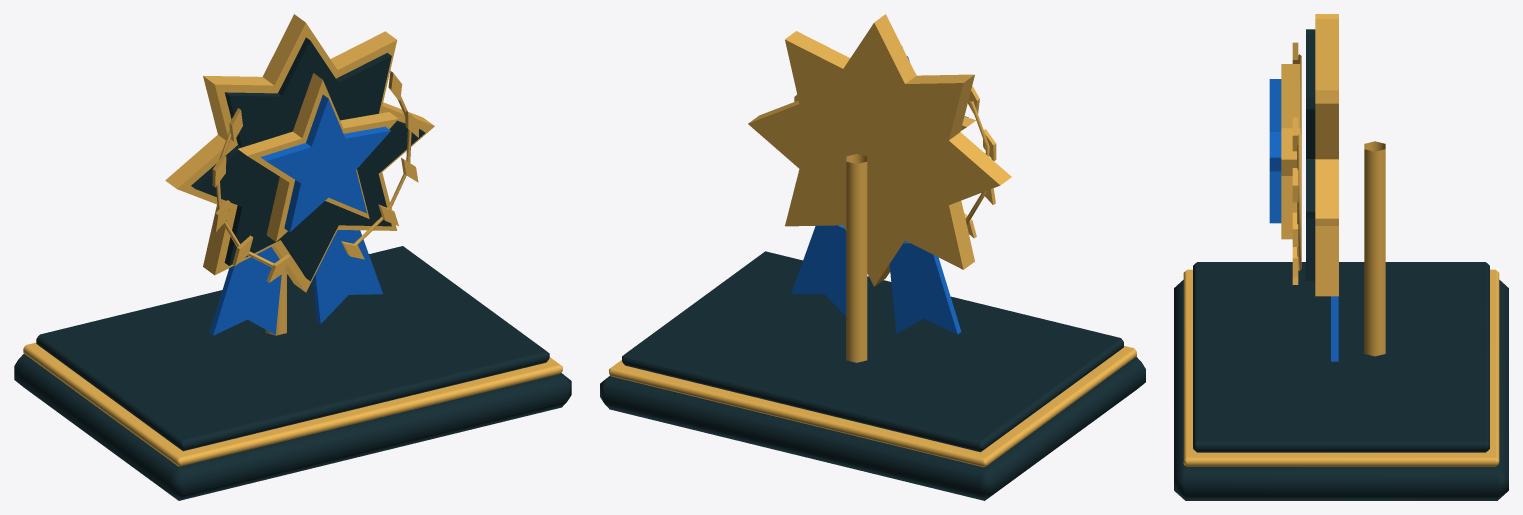
File: chess.insignia.star.lod1.glb
The picture shows the model from 3 angles, left to right: view 1: azimuth 30°, elevation 25°; view 2: azimuth 150°, elevation 25°; view 3: azimuth 270°, elevation 25°; orthographic projection. The views are drawn at different scales.
Parts seen in each view (by area): view 1: stand_top, stand_base, distance_recess, distance_cast_rim, stand_gold_band, distance_symbol_enamel, distance_symbol_setting, distance_ribbon, distance_ribbon.001; view 2: stand_top, distance_cast_rim, stand_base, stand_gold_band, medallion_support, distance_ribbon, distance_ribbon.001; view 3: stand_top, stand_base, stand_gold_band, distance_cast_rim, medallion_support, distance_symbol_setting, distance_recess, distance_symbol_enamel, distance_stem.001, distance_ribbon.001.
Part boxes in pixels (x1,y1,x2,y2): stand_top: [36, 246, 549, 451]; stand_base: [14, 354, 571, 500]; distance_recess: [191, 37, 424, 281]; distance_cast_rim: [165, 14, 434, 292]; stand_gold_band: [23, 342, 562, 466]; distance_symbol_enamel: [260, 94, 390, 231]; distance_symbol_setting: [238, 73, 398, 241]; distance_ribbon: [209, 247, 281, 335]; distance_ribbon.001: [312, 230, 382, 323]; stand_top: [622, 251, 1123, 452]; distance_cast_rim: [748, 14, 1011, 286]; stand_base: [600, 356, 1145, 500]; stand_gold_band: [609, 346, 1136, 467]; medallion_support: [846, 154, 867, 362]; distance_ribbon: [889, 241, 961, 334]; distance_ribbon.001: [791, 225, 846, 316]; stand_top: [1193, 262, 1489, 452]; stand_base: [1174, 280, 1508, 500]; stand_gold_band: [1183, 269, 1499, 466]; distance_cast_rim: [1315, 14, 1338, 296]; medallion_support: [1364, 141, 1385, 356]; distance_symbol_setting: [1281, 64, 1300, 239]; distance_recess: [1306, 29, 1315, 280]; distance_symbol_enamel: [1269, 79, 1281, 223]; distance_stem.001: [1297, 134, 1301, 270]; distance_ribbon.001: [1331, 296, 1338, 361].
Bounding box in the file's own units: 0.672 × 0.613 × 0.48.
